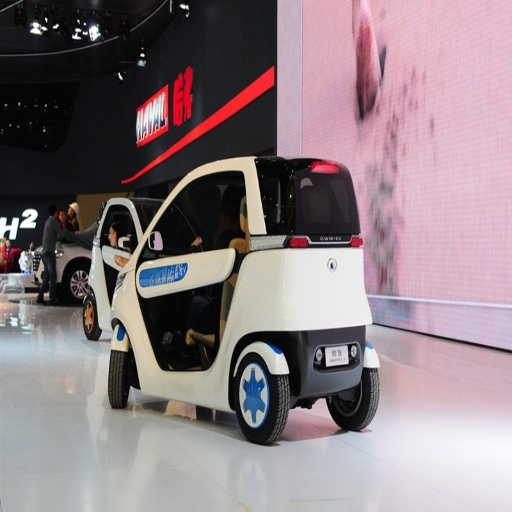back_bumper: (298, 349, 351, 394)
trunk: (250, 235, 356, 293)
